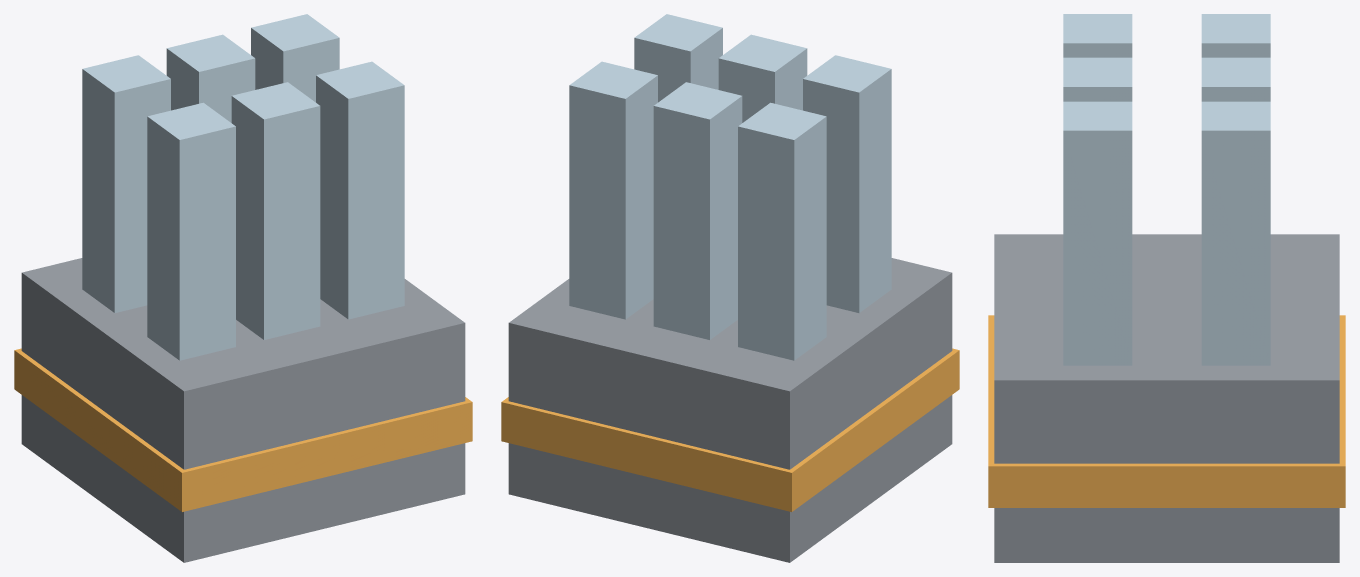
Rendered from Supply_Bottle.glb.
3 renders of one model, left to right at view 1: azimuth 30°, elevation 25°; view 2: azimuth 150°, elevation 25°; view 3: azimuth 270°, elevation 25°, orthographic. The views are drawn at different scales.
Size of the model in its own units: 0.62 by 0.8 by 0.62.
